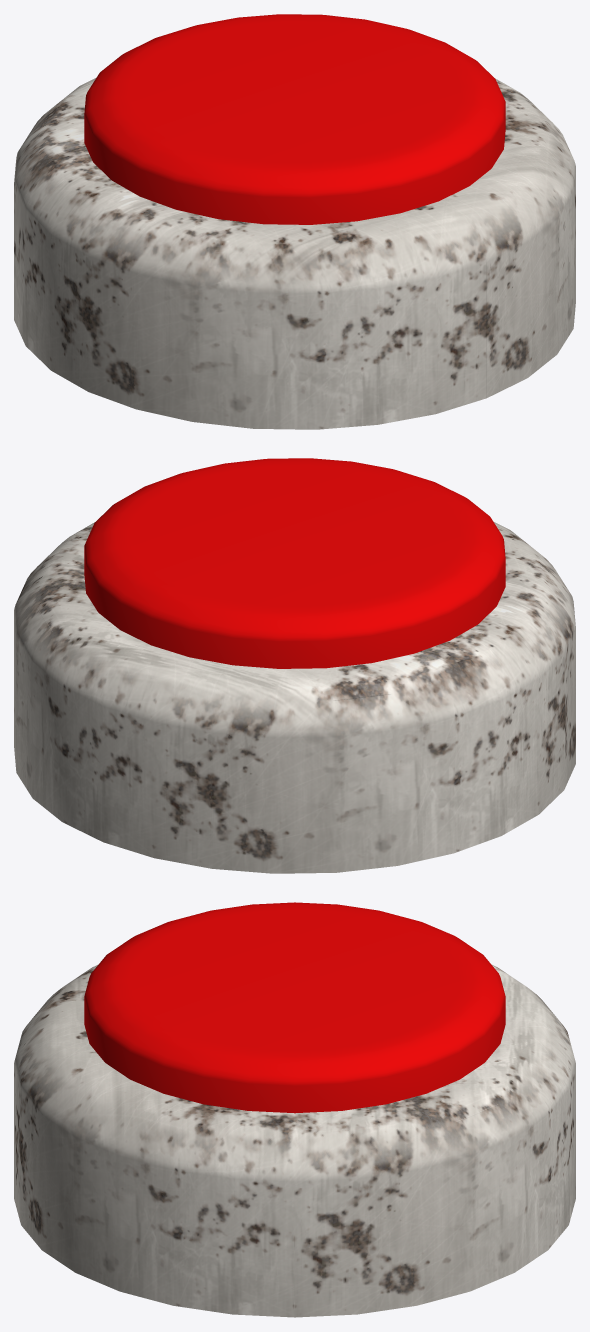
File: button.fbx
The picture shows the model from 3 angles, top to bottom: view 1: azimuth 30°, elevation 25°; view 2: azimuth 150°, elevation 25°; view 3: azimuth 270°, elevation 25°; orthographic projection.
Visible parts, largest first — view 1: Cube, Cube.001; view 2: Cube, Cube.001; view 3: Cube, Cube.001.
Part boxes in pixels (box(x1,y1,x2,y2)): Cube: box(14, 78, 575, 429); Cube.001: box(84, 14, 505, 224); Cube: box(14, 522, 575, 873); Cube.001: box(84, 458, 505, 668); Cube: box(14, 964, 575, 1317); Cube.001: box(84, 902, 505, 1113).
Bounding box in the file's own units: 21.88 × 9.39 × 21.88.
